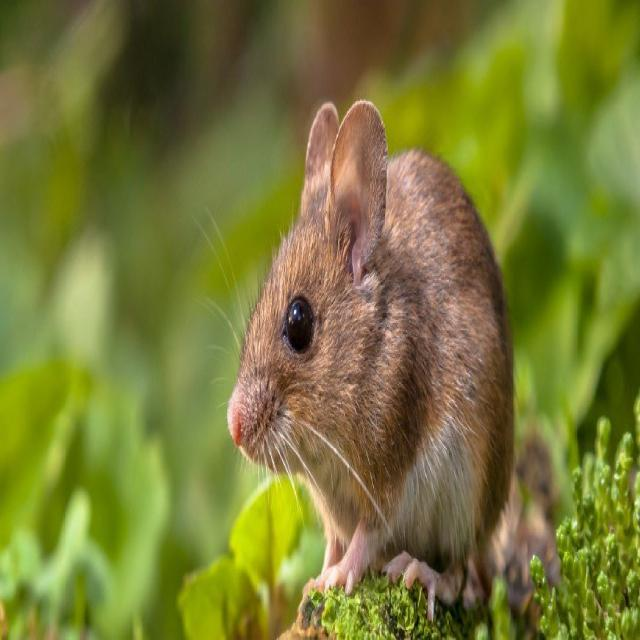Mouse: (226, 94, 520, 607)
